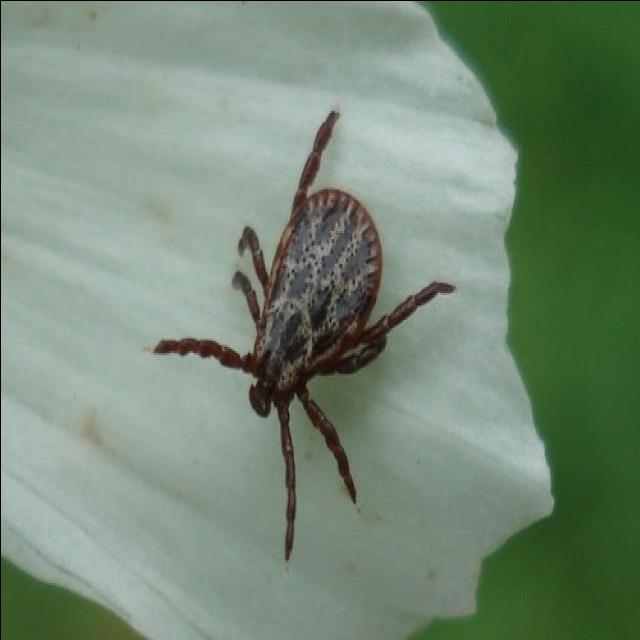Dermacentor Reticulatus-M: (150, 112, 454, 563)
